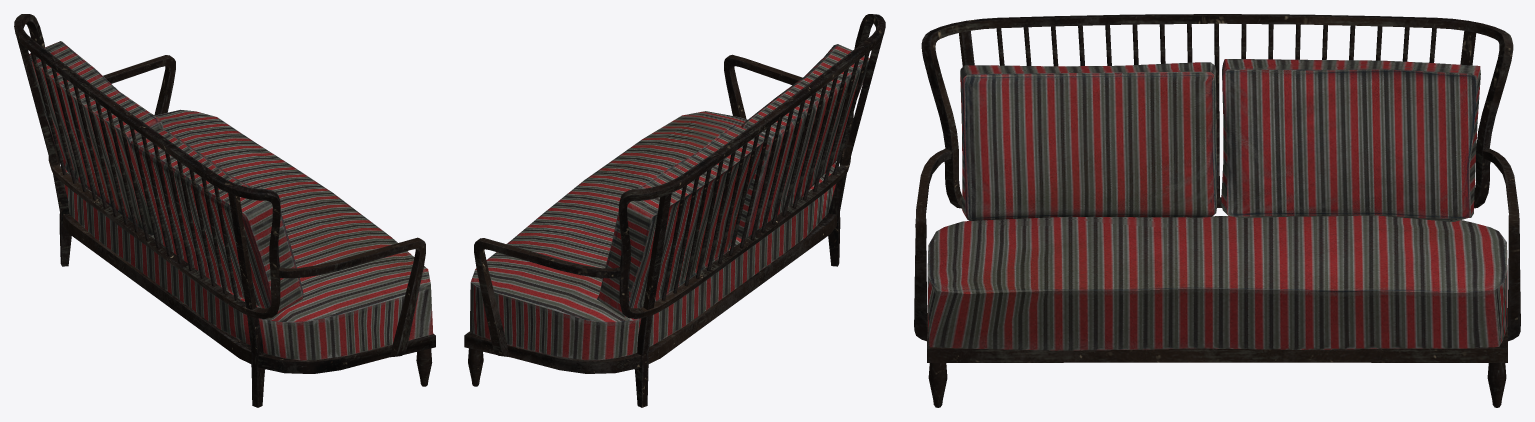
The model's file is sofa18.glb.
3 views of the same model, side by side, from view 1: azimuth 30°, elevation 25°; view 2: azimuth 150°, elevation 25°; view 3: azimuth 270°, elevation 25° (orthographic). The views are drawn at different scales.
Visible parts, largest first — view 1: seatPillowHP.004, back_curve.004, left_pillow_LP.003, back_rows_LP.001, right_pillow_LP.004; view 2: seatPillowHP.004, back_curve.004, right_pillow_LP.004, back_rows_LP.001, left_pillow_LP.003; view 3: seatPillowHP.004, right_pillow_LP.004, left_pillow_LP.003, back_curve.004, back_rows_LP.001.
Part boxes in pixels (x1,y1,x2,y2): seatPillowHP.004: (64, 109, 433, 360); back_curve.004: (14, 14, 435, 407); left_pillow_LP.003: (130, 128, 303, 314); back_rows_LP.001: (30, 52, 238, 300); right_pillow_LP.004: (29, 41, 163, 235); seatPillowHP.004: (470, 111, 835, 360); back_curve.004: (464, 14, 885, 407); right_pillow_LP.004: (597, 124, 764, 317); back_rows_LP.001: (661, 52, 869, 300); left_pillow_LP.003: (736, 44, 869, 238); seatPillowHP.004: (927, 215, 1507, 350); right_pillow_LP.004: (1221, 59, 1480, 221); left_pillow_LP.003: (960, 62, 1216, 220); back_curve.004: (914, 14, 1520, 407); back_rows_LP.001: (996, 23, 1436, 197).
Bounding box in the file's own units: 0.761 × 0.8247 × 1.6.
Materials: 1 (1 with a texture image).
